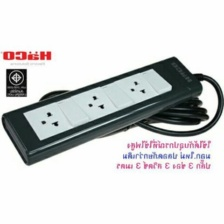three_eye_plug: (0, 51, 208, 171)
